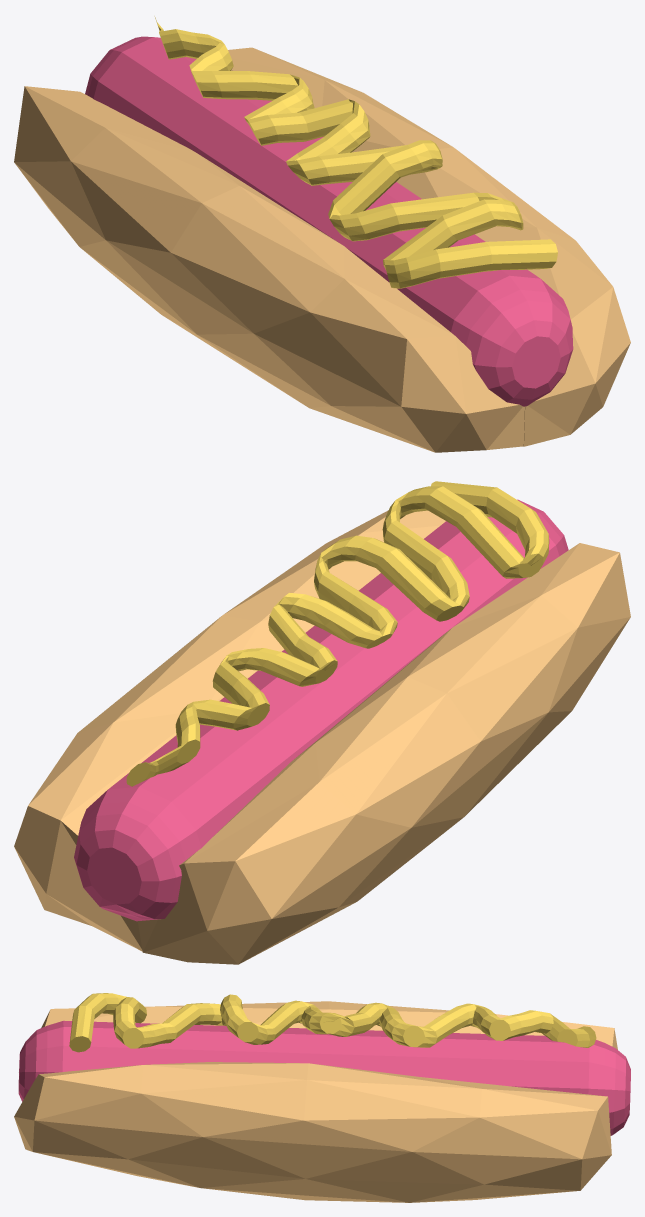
The model's file is HotDog.fbx.
The picture shows the model from 3 angles, top to bottom: view 1: azimuth 30°, elevation 25°; view 2: azimuth 150°, elevation 25°; view 3: azimuth 270°, elevation 25°; orthographic projection. The views are drawn at different scales.
Parts seen in each view (by area): view 1: Bread, Sausage, Mustard; view 2: Bread, Sausage, Mustard; view 3: Bread, Sausage, Mustard.
Part boxes in pixels (x1,y1,x2,y2): Bread: (14, 47, 630, 452); Sausage: (85, 36, 573, 406); Mustard: (154, 16, 557, 288); Bread: (14, 510, 630, 964); Sausage: (74, 499, 568, 921); Mustard: (126, 481, 549, 786); Bread: (14, 1001, 617, 1202); Sausage: (18, 1020, 630, 1135); Mustard: (69, 993, 596, 1052).
Size of the model in its own units: 49.61 by 38.4 by 116.
